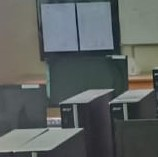monitor: (30, 50, 125, 110), (35, 0, 120, 55)
